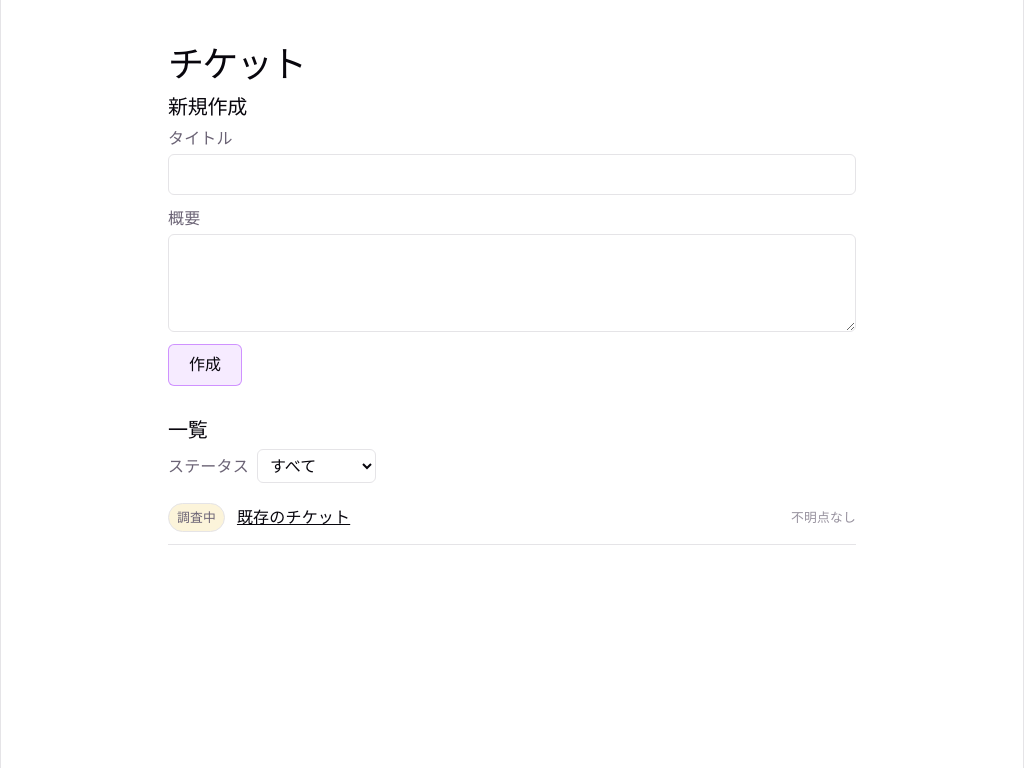
Test case: 一覧から詳細へ › チケットのタイトルを押すと、詳細画面に移る
Step 1. Click the link "既存のチケット" → (294, 518), box x1=237 y1=506 x2=350 y2=529
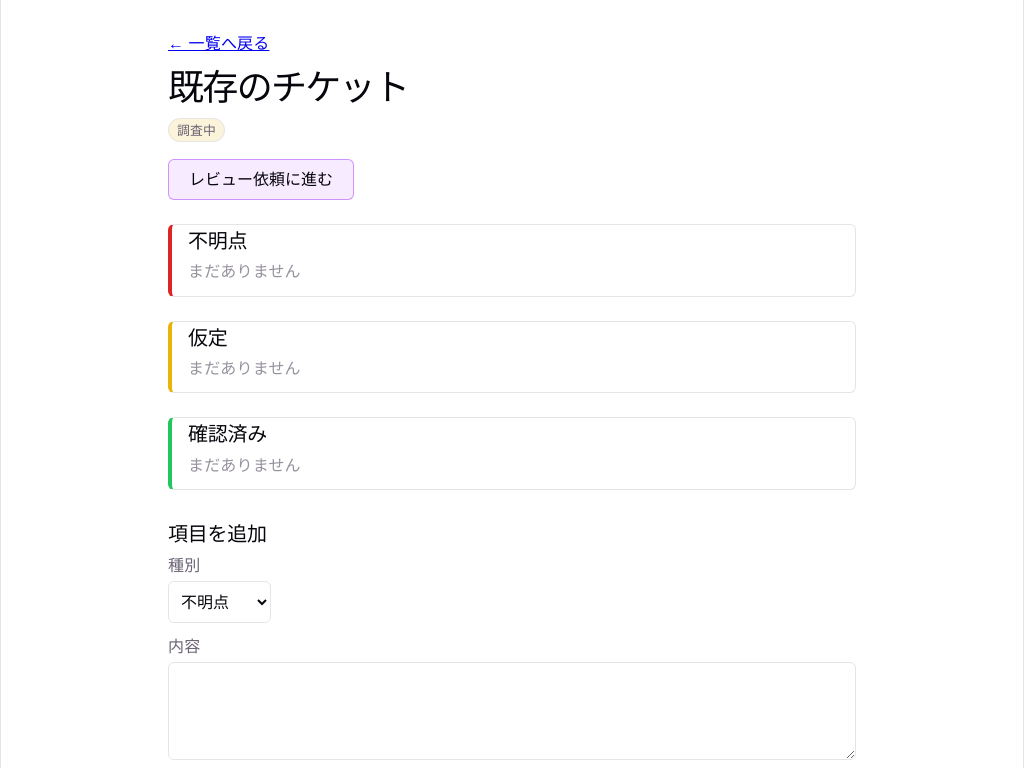
expect the heading "既存のチケット" is shown: met, box x1=168 y1=62 x2=408 y2=111
